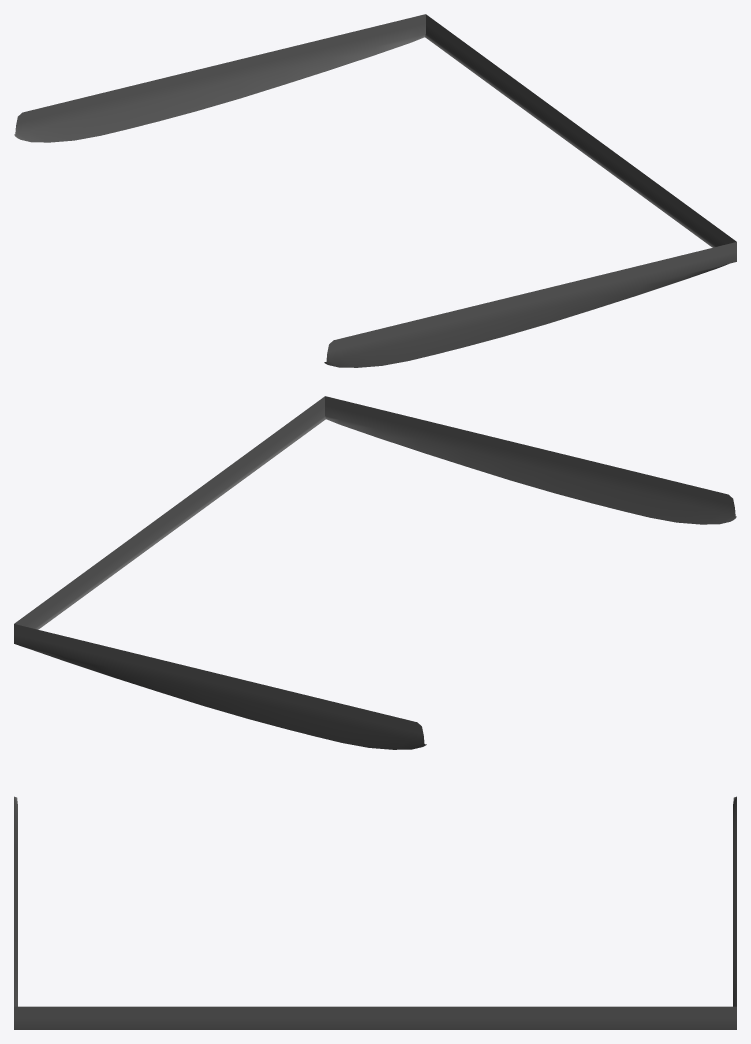
The model's file is Book_8_book_front_8_1.obj.
3 views of the same model, one above another, from view 1: azimuth 30°, elevation 25°; view 2: azimuth 150°, elevation 25°; view 3: azimuth 270°, elevation 25° (orthographic). The views are drawn at different scales.
Bounding box in the file's own units: 0.195 × 0.0185 × 0.2552.
1 material, 1 textured.
